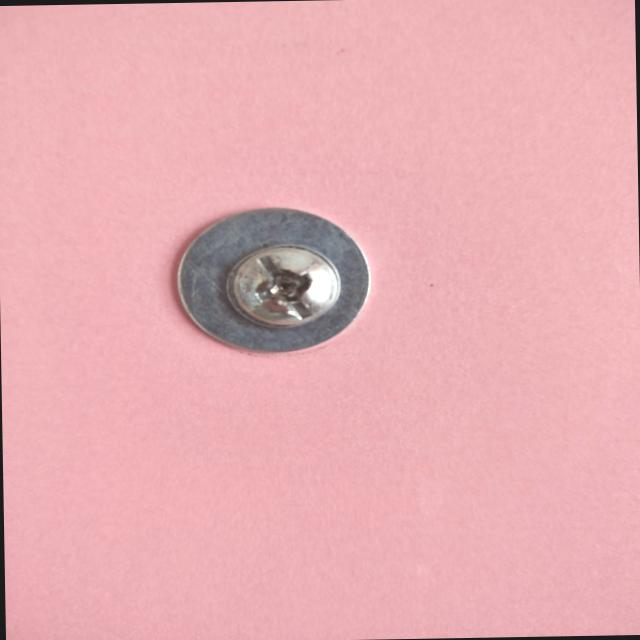Phillips: (190, 235, 357, 334)
